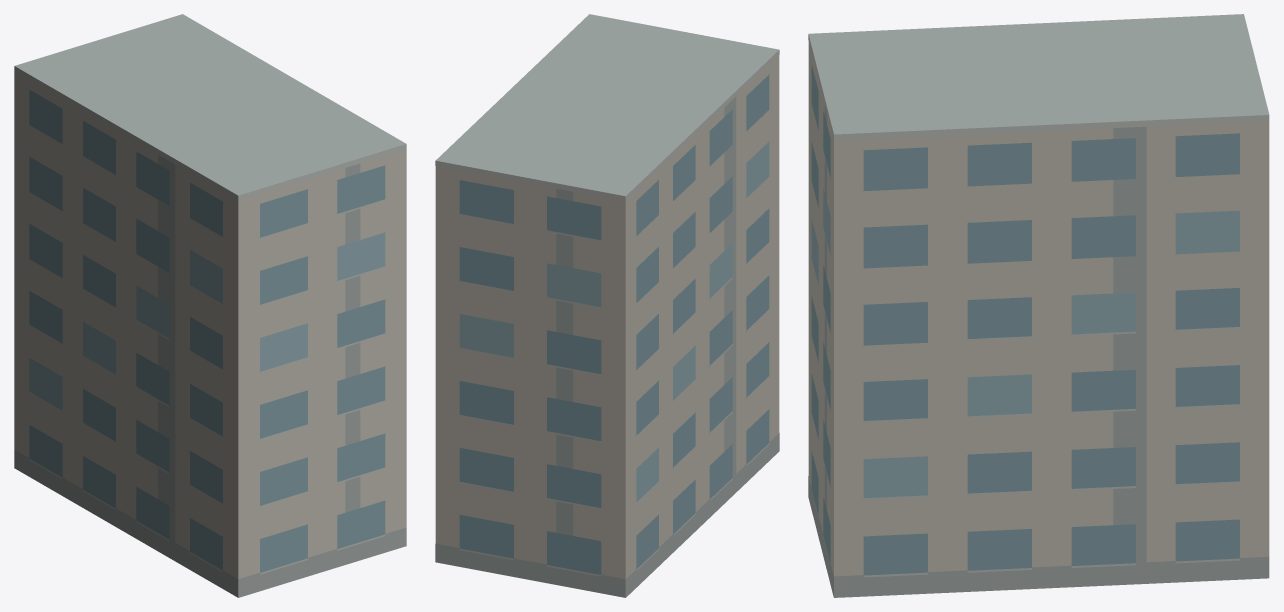
The model's file is residential-f97a1296-692a-4e85-9f8f-4c4d9e9c3dc6.glb.
3 renders of one model, left to right at view 1: azimuth 30°, elevation 25°; view 2: azimuth 150°, elevation 25°; view 3: azimuth 270°, elevation 25°, orthographic. The views are drawn at different scales.
Visible parts, largest first — view 1: residential-f97a1296-692a-4e85-9f8f-4c4d9e9c3dc6.tmp; view 2: residential-f97a1296-692a-4e85-9f8f-4c4d9e9c3dc6.tmp; view 3: residential-f97a1296-692a-4e85-9f8f-4c4d9e9c3dc6.tmp.
Part boxes in pixels (x1,y1,x2,y2): residential-f97a1296-692a-4e85-9f8f-4c4d9e9c3dc6.tmp: [14, 14, 406, 597]; residential-f97a1296-692a-4e85-9f8f-4c4d9e9c3dc6.tmp: [435, 14, 779, 597]; residential-f97a1296-692a-4e85-9f8f-4c4d9e9c3dc6.tmp: [808, 14, 1269, 597].
Size of the model in its own units: 10.21 by 18.3 by 16.51.
